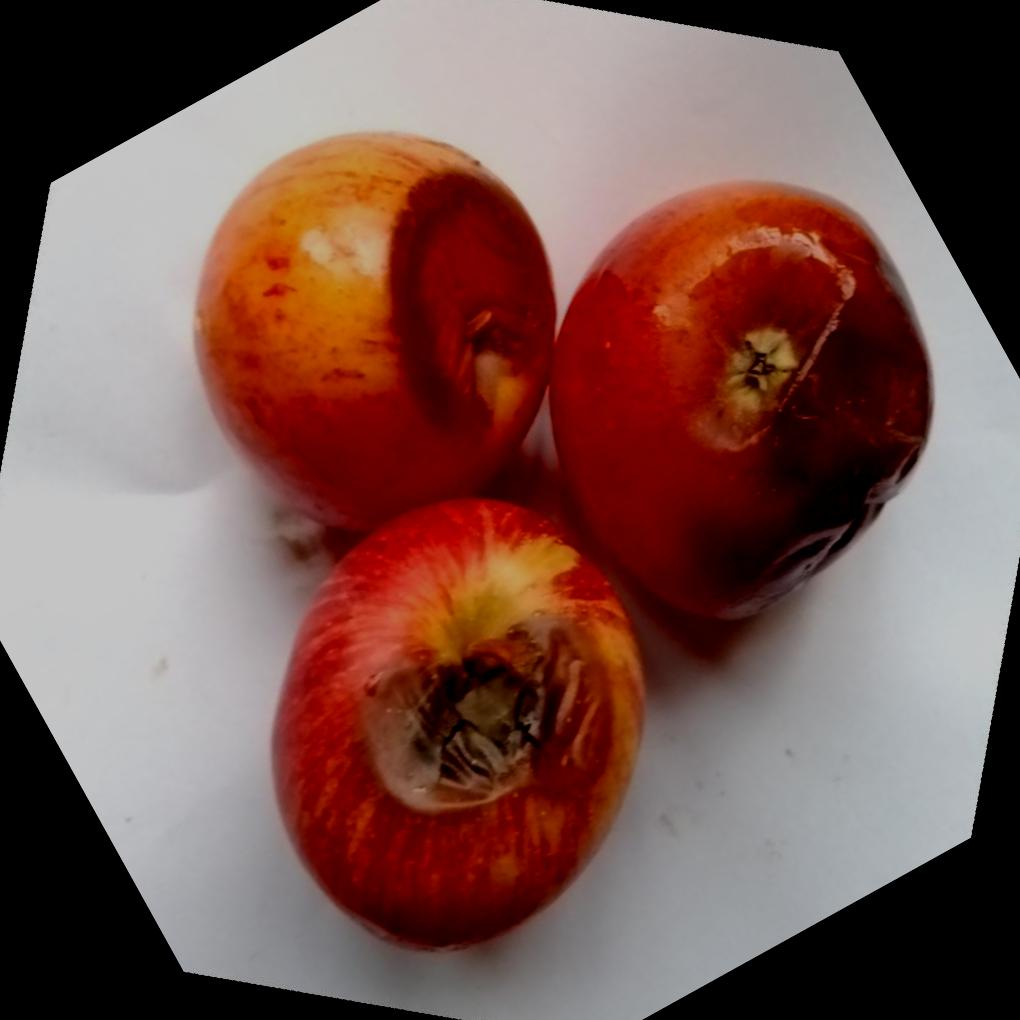FreshOrange: (190, 128, 931, 952)
